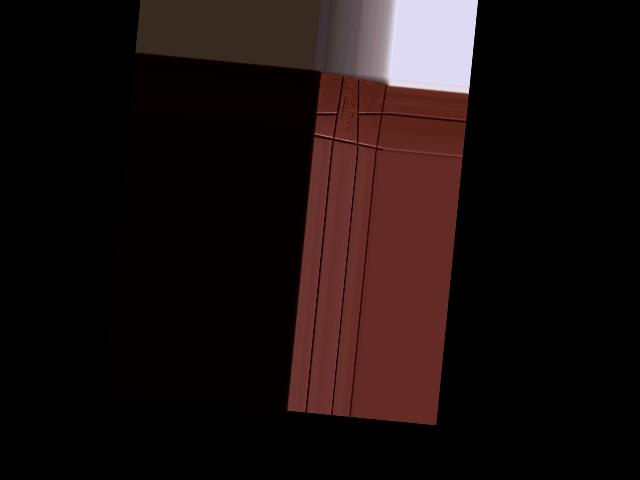chocolate: (309, 69, 390, 154)
